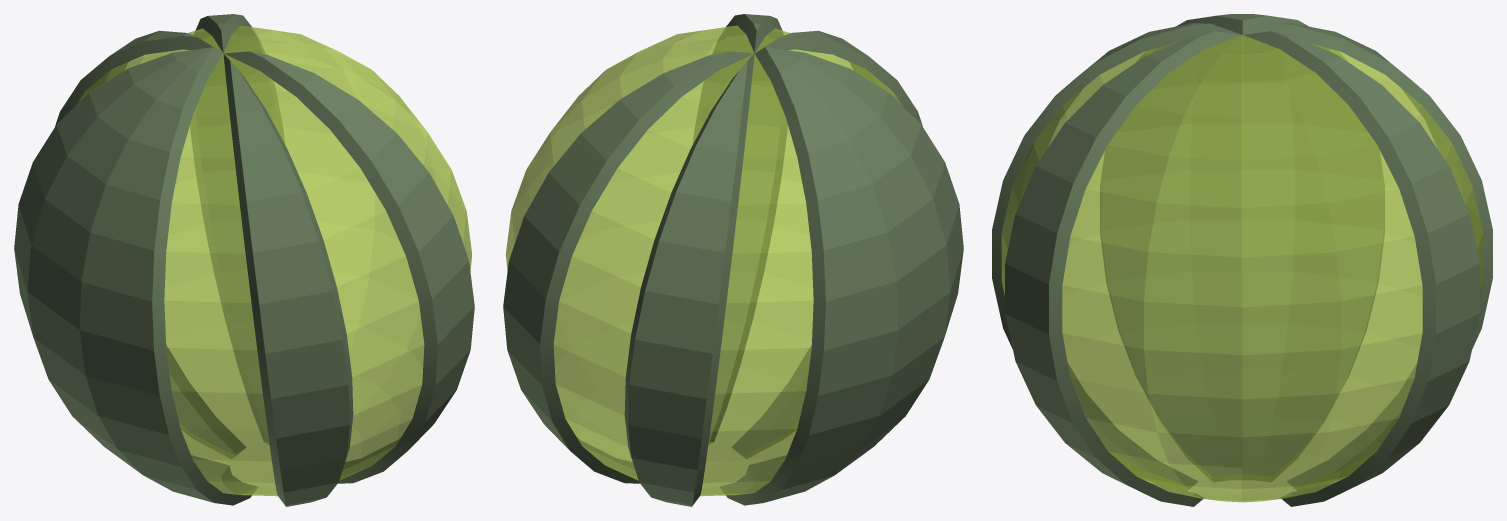
File: Abdomen.fbx
3 renders of one model, left to right at view 1: azimuth 30°, elevation 25°; view 2: azimuth 150°, elevation 25°; view 3: azimuth 270°, elevation 25°, orthographic.
Parts seen in each view (by area): view 1: Abdomen; view 2: Abdomen; view 3: Abdomen.
Boxes of the visible parts, bbox=[...] form: Abdomen: bbox=[14, 14, 474, 506]; Abdomen: bbox=[503, 14, 963, 506]; Abdomen: bbox=[992, 14, 1492, 506].
Size of the model in its own units: 7.49 by 8.29 by 8.33.
